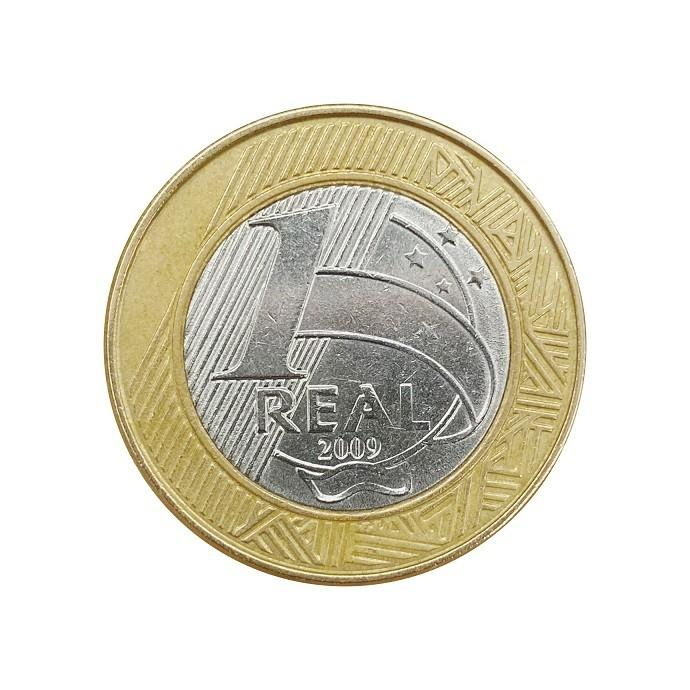1 real: (63, 89, 639, 621)
